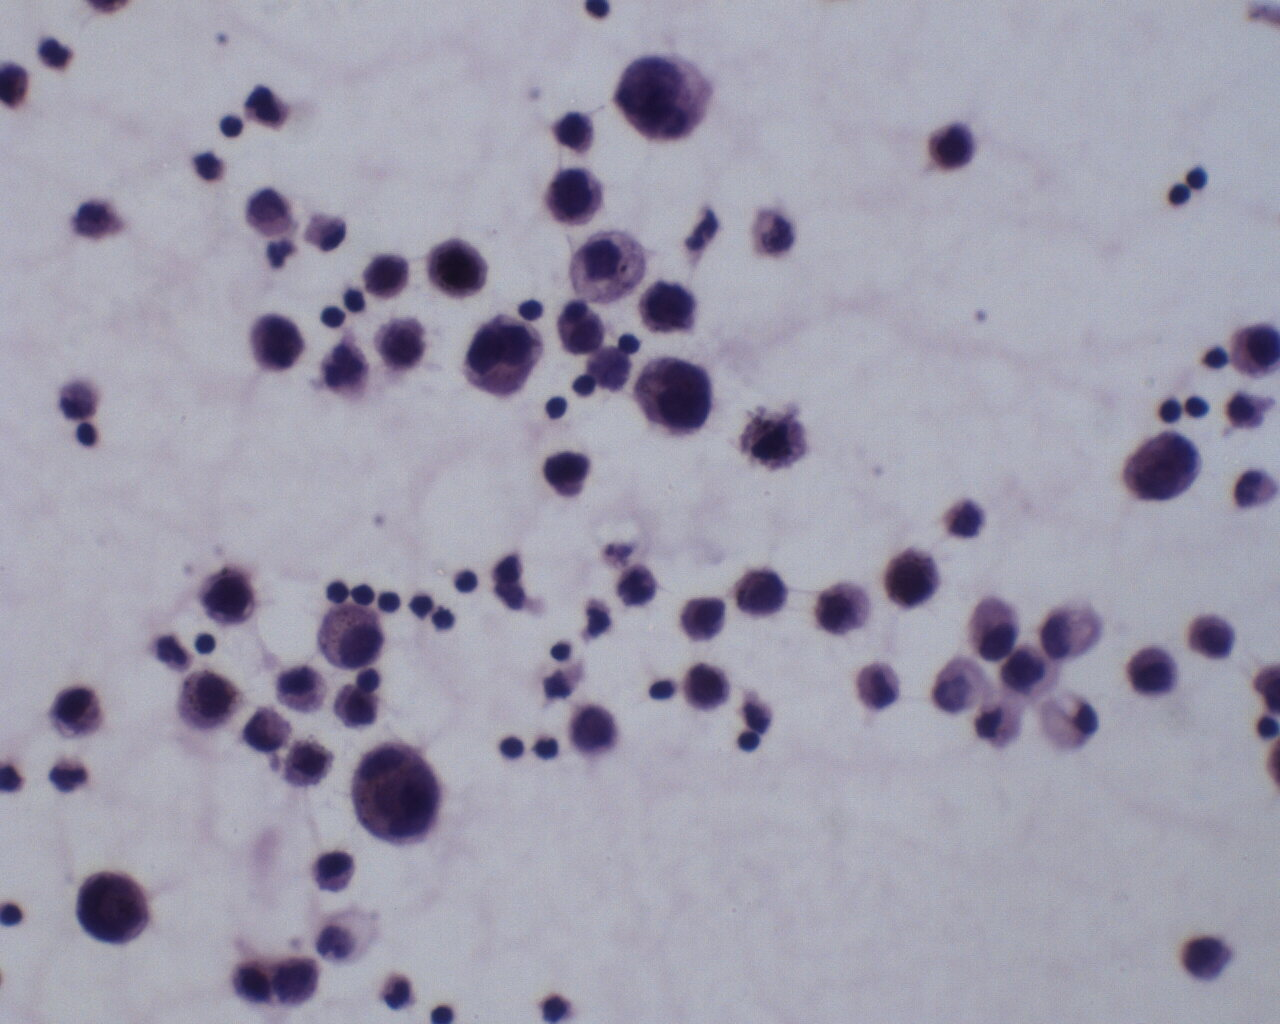ab: (611, 48, 723, 148), (349, 739, 448, 845), (460, 308, 546, 406), (1119, 428, 1207, 513), (635, 354, 718, 439), (74, 866, 147, 952), (738, 406, 813, 475), (421, 237, 491, 304), (543, 166, 609, 232), (247, 312, 312, 378), (174, 669, 238, 732), (635, 277, 699, 340), (884, 544, 940, 613), (196, 562, 255, 626), (370, 315, 429, 372), (567, 704, 627, 759), (736, 565, 793, 619), (927, 118, 980, 174), (682, 662, 734, 713)
histo: (1041, 689, 1099, 757)
lymph: (1154, 394, 1187, 430), (498, 732, 528, 764), (450, 567, 482, 595), (376, 587, 402, 618), (1168, 182, 1194, 207)
meso: (567, 226, 650, 305), (315, 606, 385, 672), (967, 594, 1024, 665)
neutro: (42, 757, 90, 797), (377, 968, 417, 1015)
